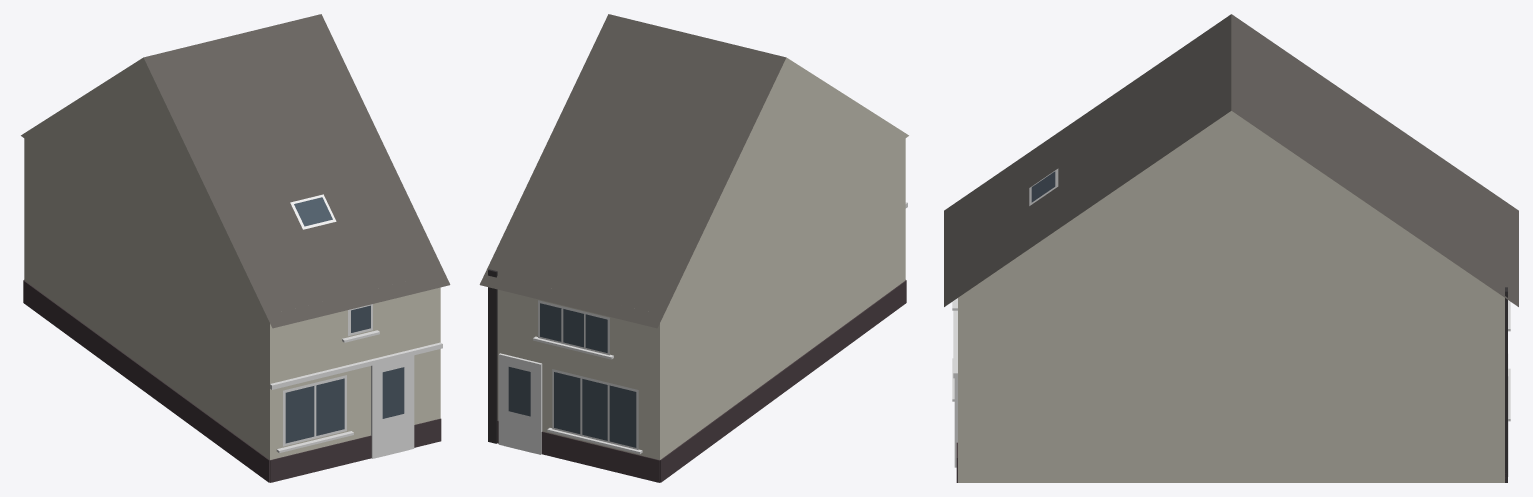
The model's file is nw-ee-band-row__band__2__gable__long__solid__f0d1.glb.
3 renders of one model, left to right at view 1: azimuth 30°, elevation 25°; view 2: azimuth 150°, elevation 25°; view 3: azimuth 270°, elevation 25°, orthographic. The views are drawn at different scales.
Parts seen in each view (by area): view 1: nw-ee-band-row__band__2__gable__long__solid__f0d1; view 2: nw-ee-band-row__band__2__gable__long__solid__f0d1; view 3: nw-ee-band-row__band__2__gable__long__solid__f0d1.
Boxes of the visible parts, x1,y1,x2,y2 form: nw-ee-band-row__band__2__gable__long__solid__f0d1: (21,14,450,482); nw-ee-band-row__band__2__gable__long__solid__f0d1: (479,14,908,482); nw-ee-band-row__band__2__gable__long__solid__f0d1: (944,14,1518,482).
Size of the model in its own units: 4.99 by 9 by 12.53.
